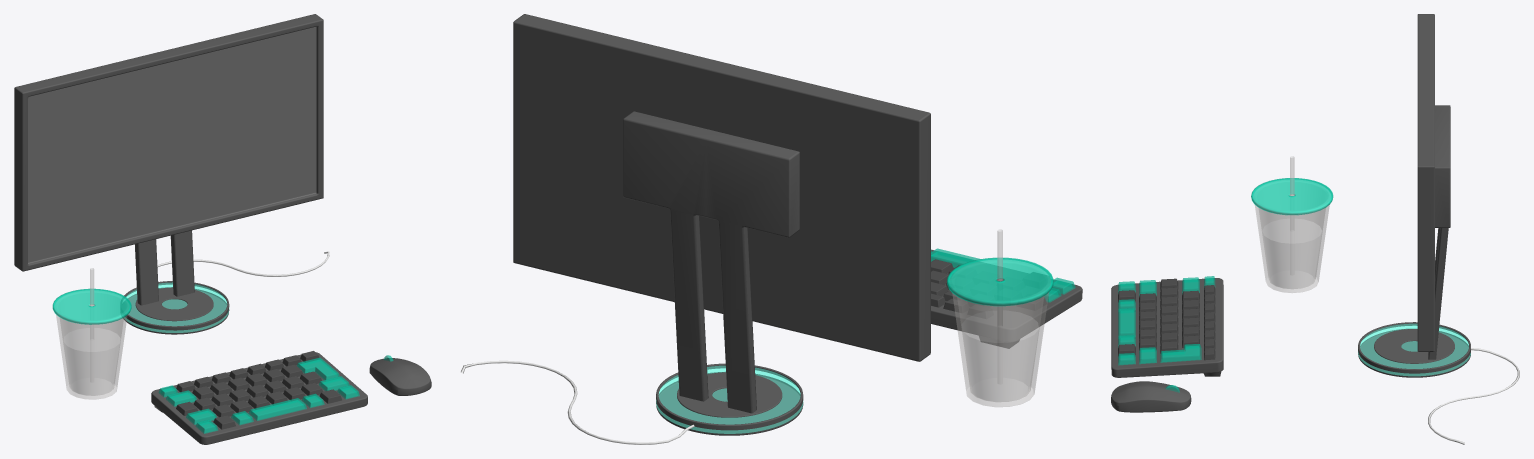
Rendered from computer-transformed.glb.
The picture shows the model from 3 angles, left to right: view 1: azimuth 30°, elevation 25°; view 2: azimuth 150°, elevation 25°; view 3: azimuth 270°, elevation 25°; orthographic projection. The views are drawn at different scales.
Parts seen in each view (by area): view 1: lcd, Keys, Keyboard, Cup, base, Liquid, MonitorSupport, Lid, mouse, PowerCord; view 2: lcd, MonitorSupport, Cup, base, Liquid, Keys, Keyboard, Lid, PowerCord; view 3: Keys, lcd, Keyboard, Cup, base, Liquid, MonitorSupport, Lid, mouse, PowerCord.
Part boxes in pixels (box(x1,y1,x2,y2)): lcd: box(14, 14, 323, 271); Keys: box(158, 351, 359, 433); Keyboard: box(151, 352, 367, 444); Cup: box(56, 304, 127, 399); base: box(121, 281, 229, 334); Liquid: box(63, 328, 120, 395); MonitorSupport: box(135, 230, 194, 305); Lid: box(52, 288, 131, 324); mouse: box(369, 358, 431, 395); PowerCord: box(157, 251, 329, 276); lcd: box(513, 14, 930, 361); MonitorSupport: box(623, 111, 799, 413); Cup: box(952, 279, 1048, 406); base: box(656, 363, 803, 435); Liquid: box(962, 310, 1038, 401); Keys: box(931, 248, 1075, 318); Keyboard: box(931, 249, 1082, 341); Lid: box(947, 257, 1053, 306); PowerCord: box(461, 360, 694, 444); Keys: box(1118, 276, 1215, 365); lcd: box(1417, 14, 1434, 351); Keyboard: box(1111, 278, 1223, 377); Cup: box(1255, 194, 1329, 292); base: box(1358, 322, 1470, 377); Liquid: box(1262, 219, 1321, 288); MonitorSupport: box(1428, 105, 1450, 359); Lid: box(1251, 178, 1333, 215); mouse: box(1111, 381, 1191, 412); PowerCord: box(1428, 348, 1519, 444).
Size of what is drawn, in the model's own units: 10.72 by 7.47 by 10.4.
